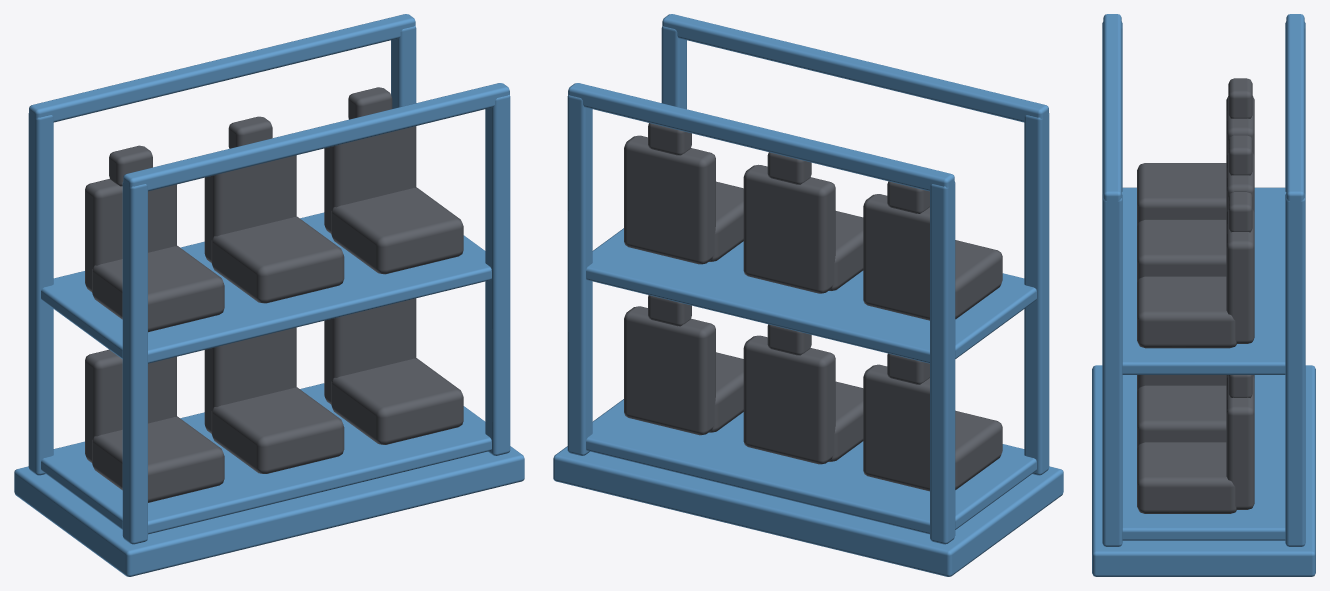
Rendered from seat-rack.glb.
3 renders of one model, left to right at view 1: azimuth 30°, elevation 25°; view 2: azimuth 150°, elevation 25°; view 3: azimuth 270°, elevation 25°, orthographic. The views are drawn at different scales.
Parts seen in each view (by area): view 1: seat-rack; view 2: seat-rack; view 3: seat-rack.
Part boxes in pixels (x1,y1,x2,y2): seat-rack: (14, 14, 524, 576); seat-rack: (553, 14, 1063, 576); seat-rack: (1092, 14, 1315, 576).
Bounding box in the file's own units: 2.2 × 2.07 × 1.1.
